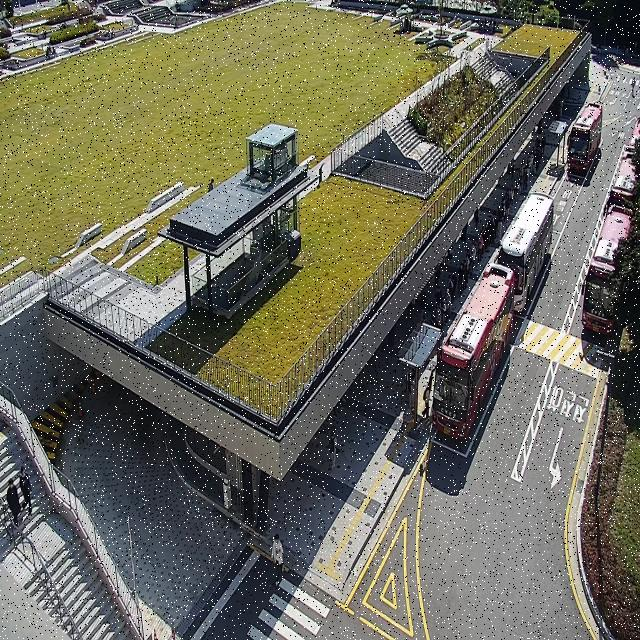queue: (415, 131, 547, 432)
